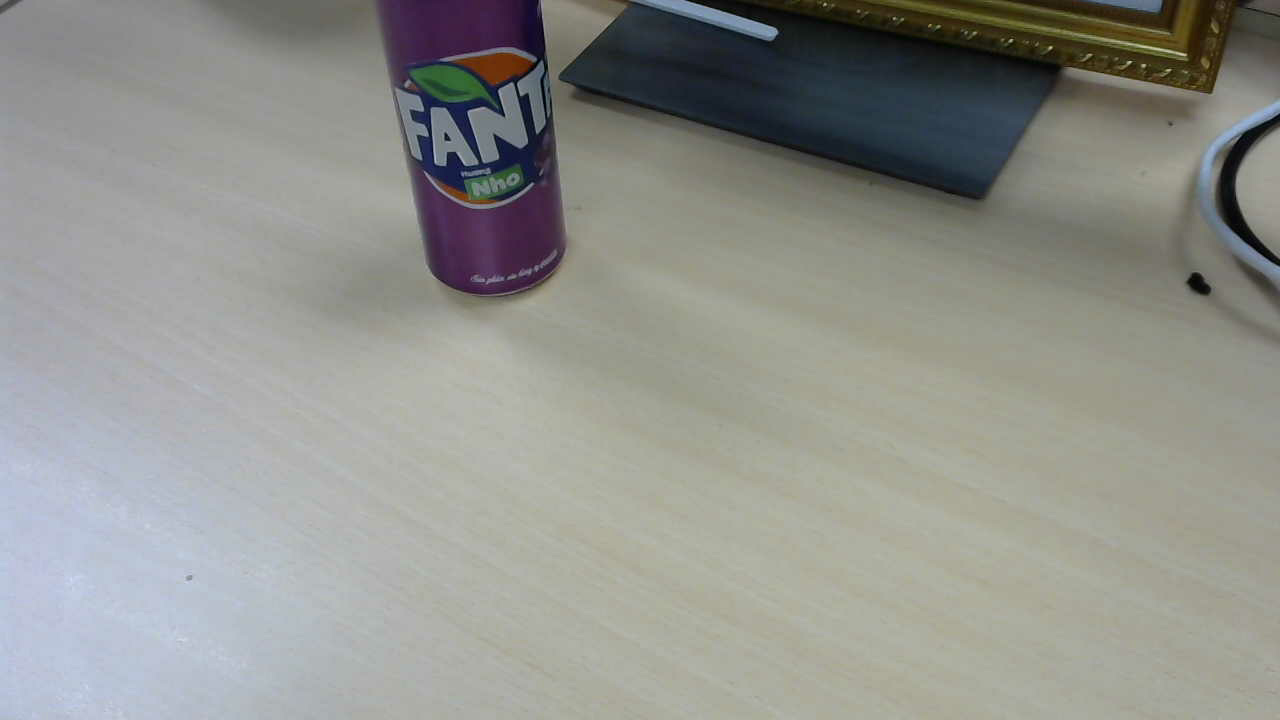Fanta: (379, 5, 576, 305)
